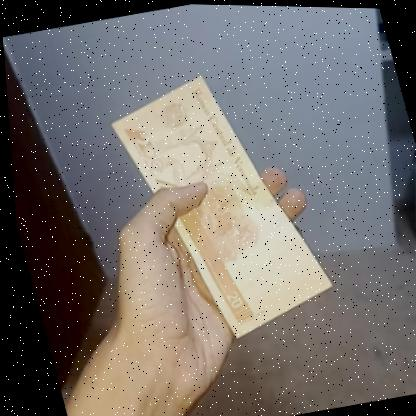twenty-back-vef: (98, 57, 339, 354)
